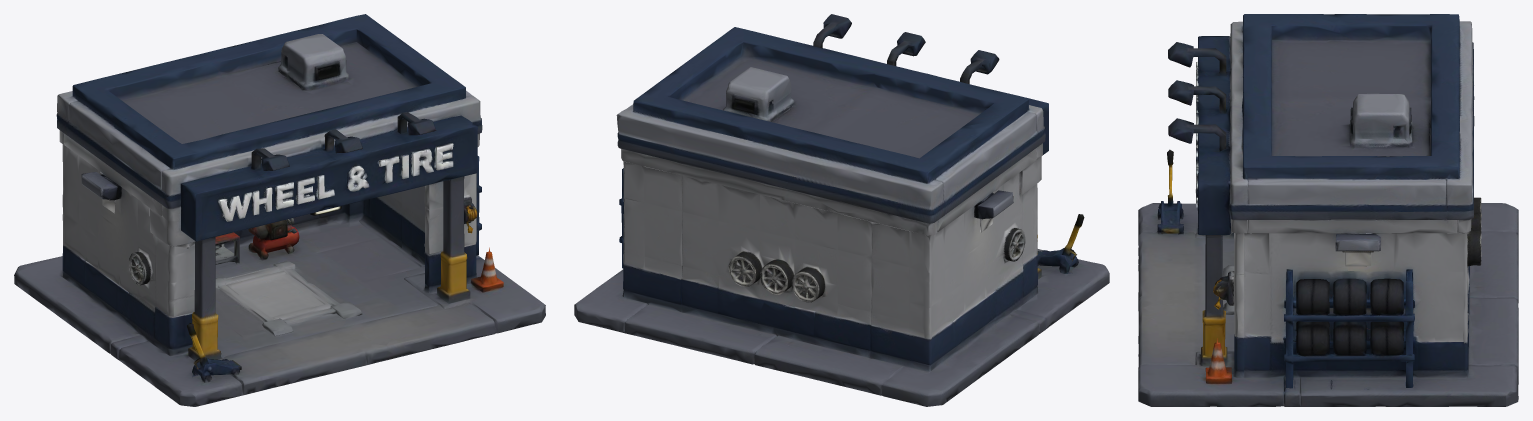
The model's file is wheel_tire_station_1k_real.glb.
The picture shows the model from 3 angles, left to right: view 1: azimuth 30°, elevation 25°; view 2: azimuth 150°, elevation 25°; view 3: azimuth 270°, elevation 25°; orthographic projection. The views are drawn at different scales.
Visible parts, largest first — view 1: tripo_node_ec1ac197-9630-4c43-aa42-7d1ba20e8a3d; view 2: tripo_node_ec1ac197-9630-4c43-aa42-7d1ba20e8a3d; view 3: tripo_node_ec1ac197-9630-4c43-aa42-7d1ba20e8a3d.
Boxes of the visible parts, box(x1,y1,x2,y2) form: tripo_node_ec1ac197-9630-4c43-aa42-7d1ba20e8a3d: box(14, 14, 545, 406); tripo_node_ec1ac197-9630-4c43-aa42-7d1ba20e8a3d: box(574, 14, 1109, 406); tripo_node_ec1ac197-9630-4c43-aa42-7d1ba20e8a3d: box(1138, 14, 1518, 406).
Bounding box in the file's own units: 1 × 0.5803 × 0.8391.
1 material, 1 textured.
